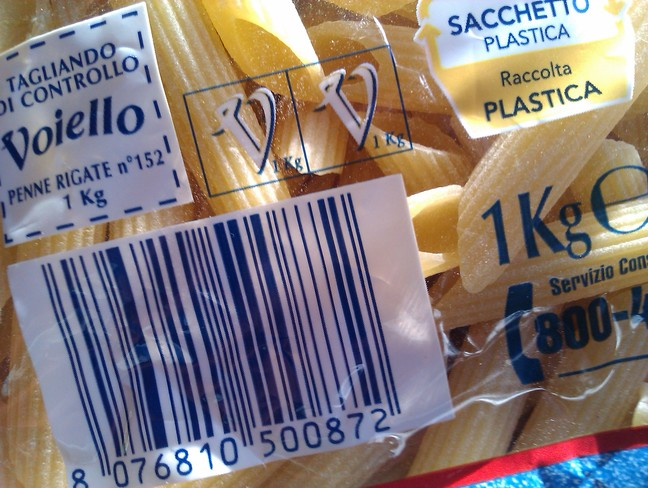barcode: (33, 188, 433, 469)
